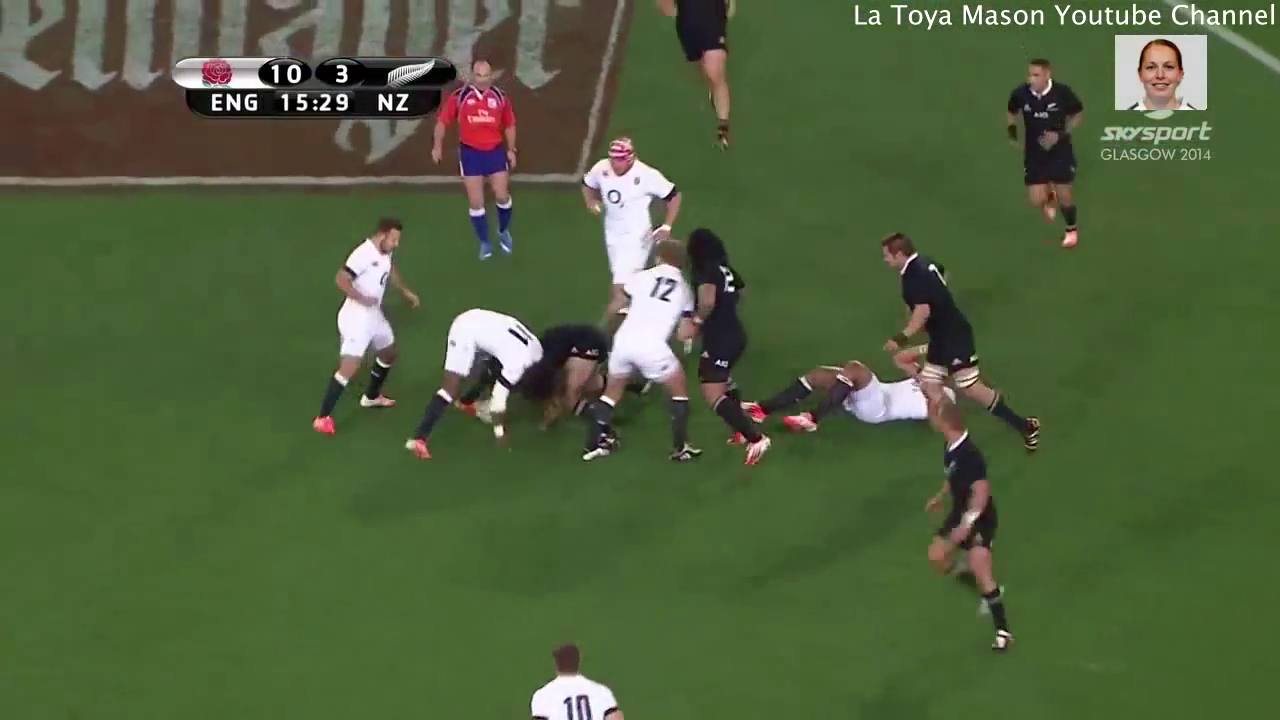player: (872, 231, 1044, 450), (677, 224, 778, 468), (925, 409, 1024, 655), (584, 238, 693, 460), (309, 219, 418, 436), (407, 307, 542, 456), (433, 52, 522, 262), (576, 132, 689, 292), (734, 348, 938, 431), (1002, 57, 1084, 252), (656, 1, 741, 155), (509, 314, 607, 437), (523, 641, 631, 720)
ruck: (410, 295, 617, 471)
